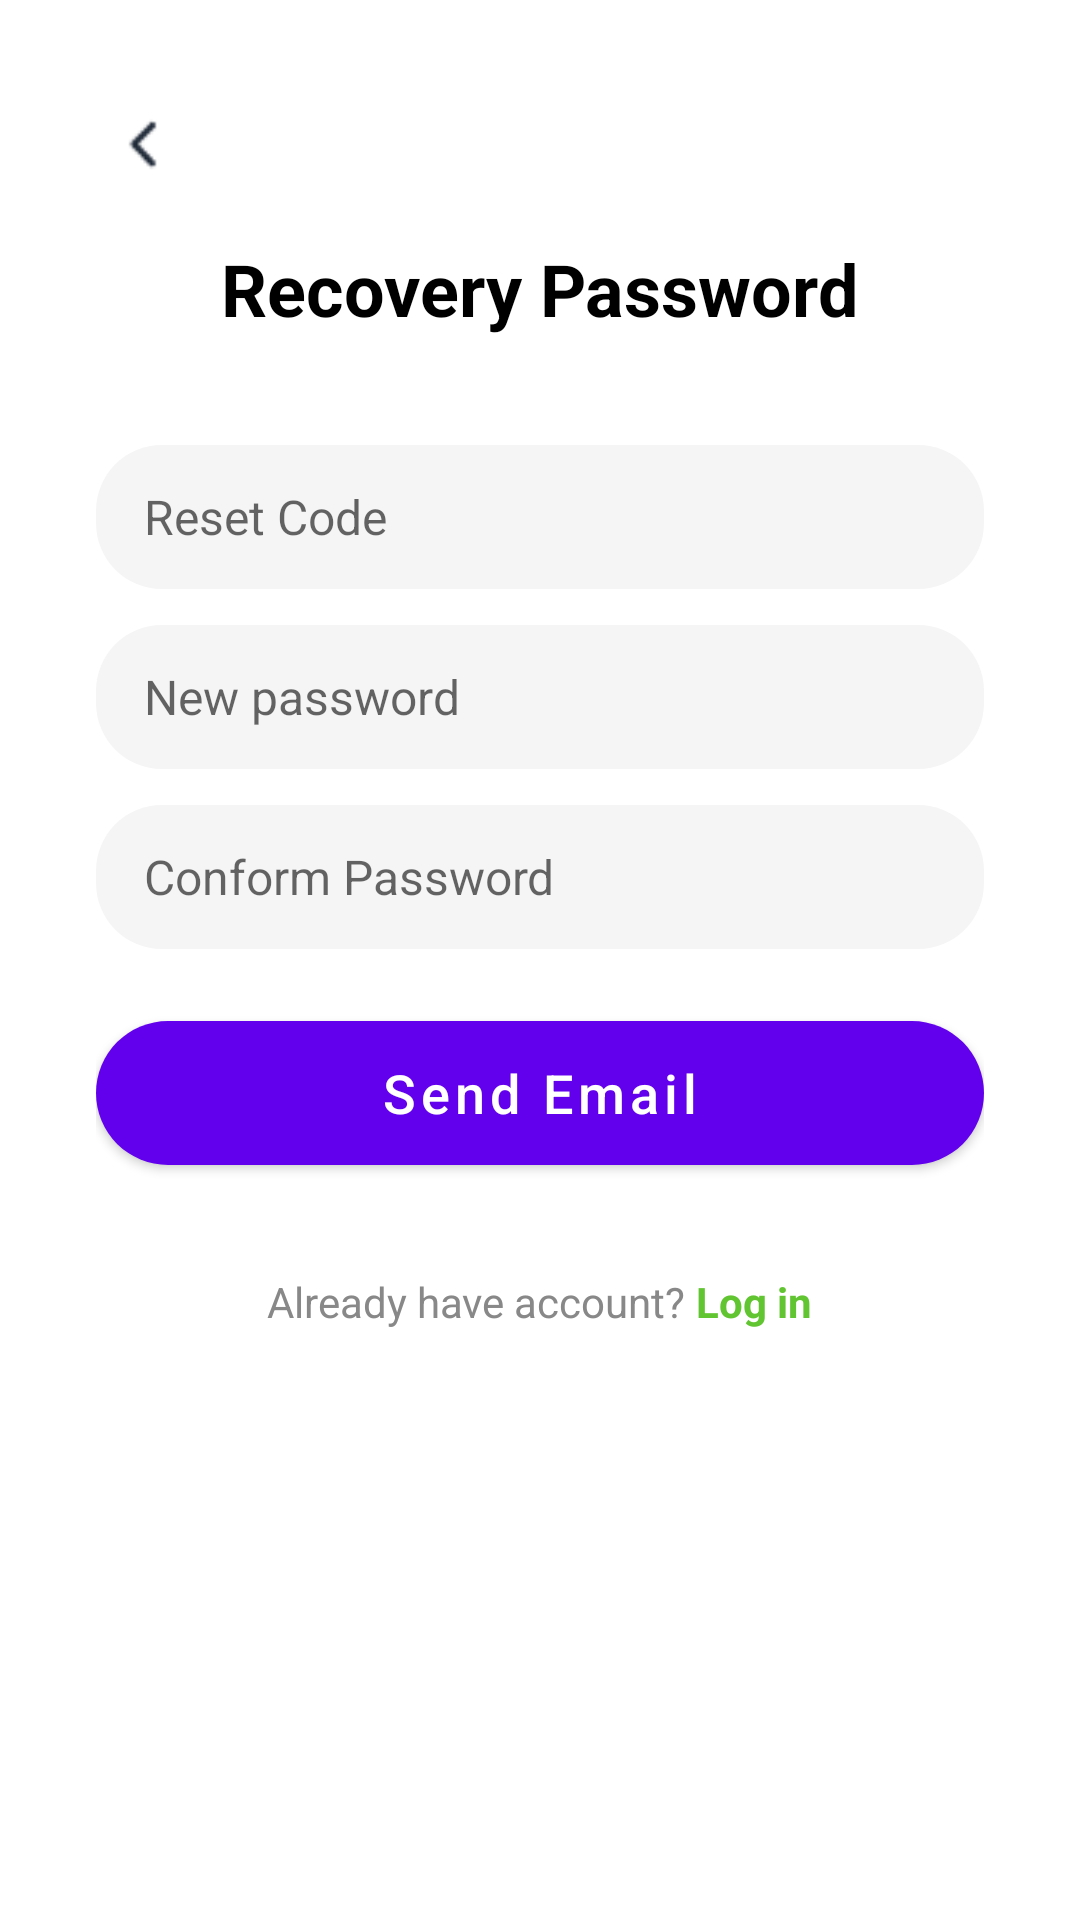

Icon bounding boxes for this 1080*1920 phone screenshot, format (x1, y1, x2, y2):
Back: (129, 121, 157, 168)
